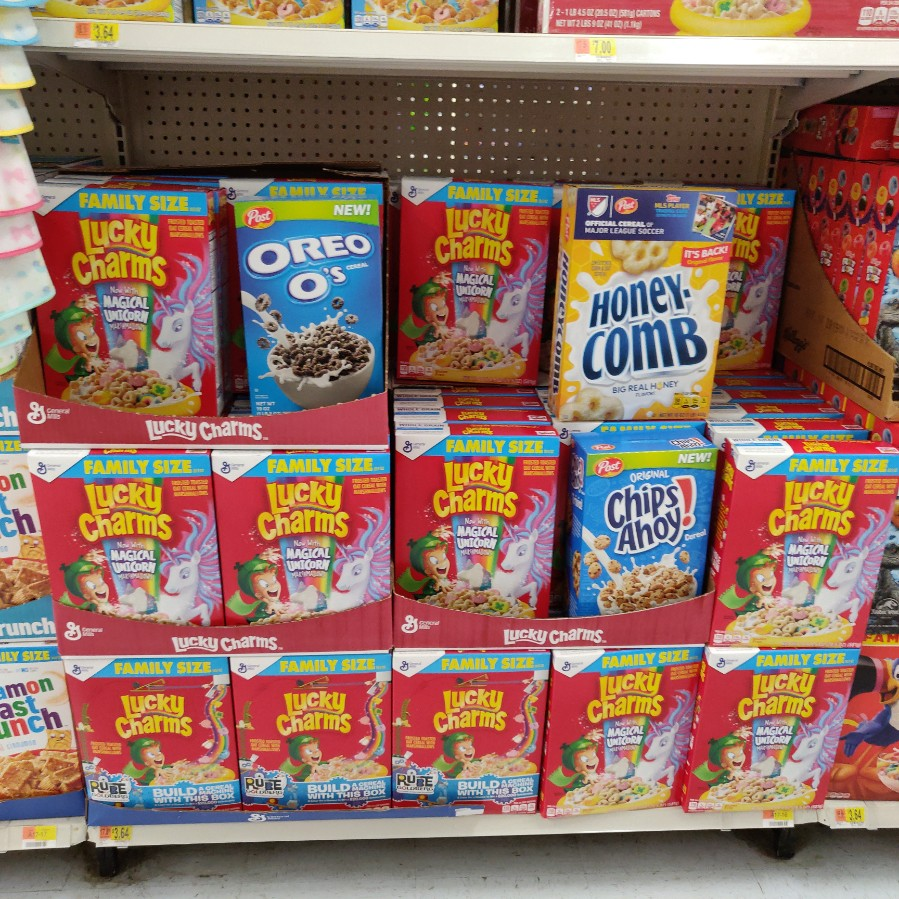Chips Ahoys-565717529: (574, 432, 709, 623)
Honey Comb- 009288857: (557, 186, 714, 425)
Oreo-563424384: (227, 194, 388, 407)
